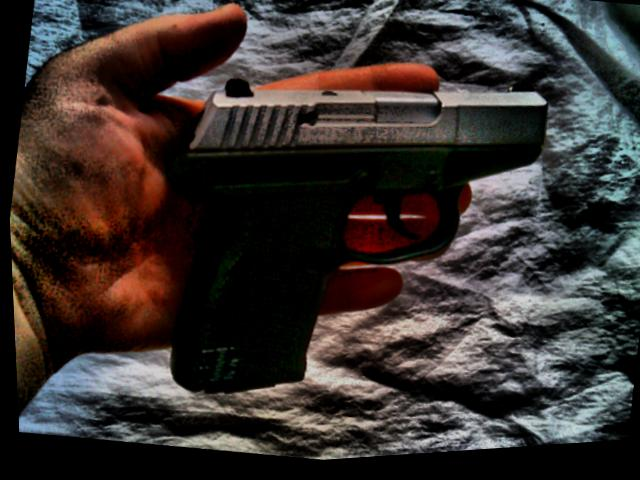pistol: (116, 29, 561, 453)
